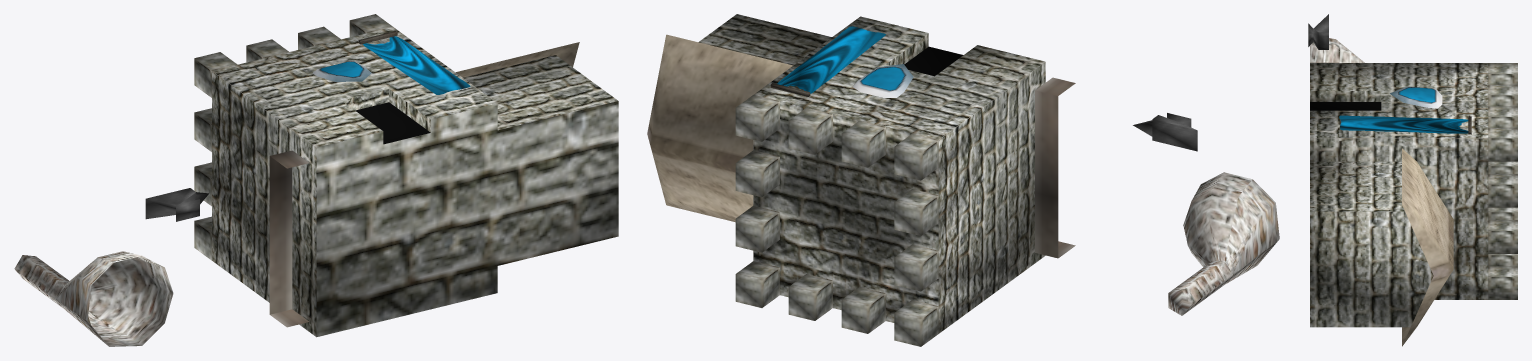
The model's file is armory.DAE.
The picture shows the model from 3 angles, left to right: view 1: azimuth 30°, elevation 25°; view 2: azimuth 150°, elevation 25°; view 3: azimuth 270°, elevation 25°; orthographic projection. The views are drawn at different scales.
Parts seen in each view (by area): view 1: Box001; view 2: Box001; view 3: Box001.
Boxes of the visible parts, <box> form: Box001: <box>14,14,618,346</box>; Box001: <box>647,14,1279,346</box>; Box001: <box>1308,14,1517,346</box>.
Size of the model in its own units: 7.23 by 2.83 by 2.53.
